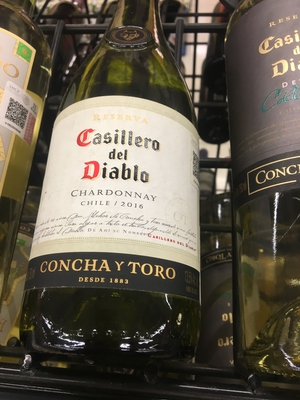casillero del diablo chardonnay: (26, 1, 203, 381)
